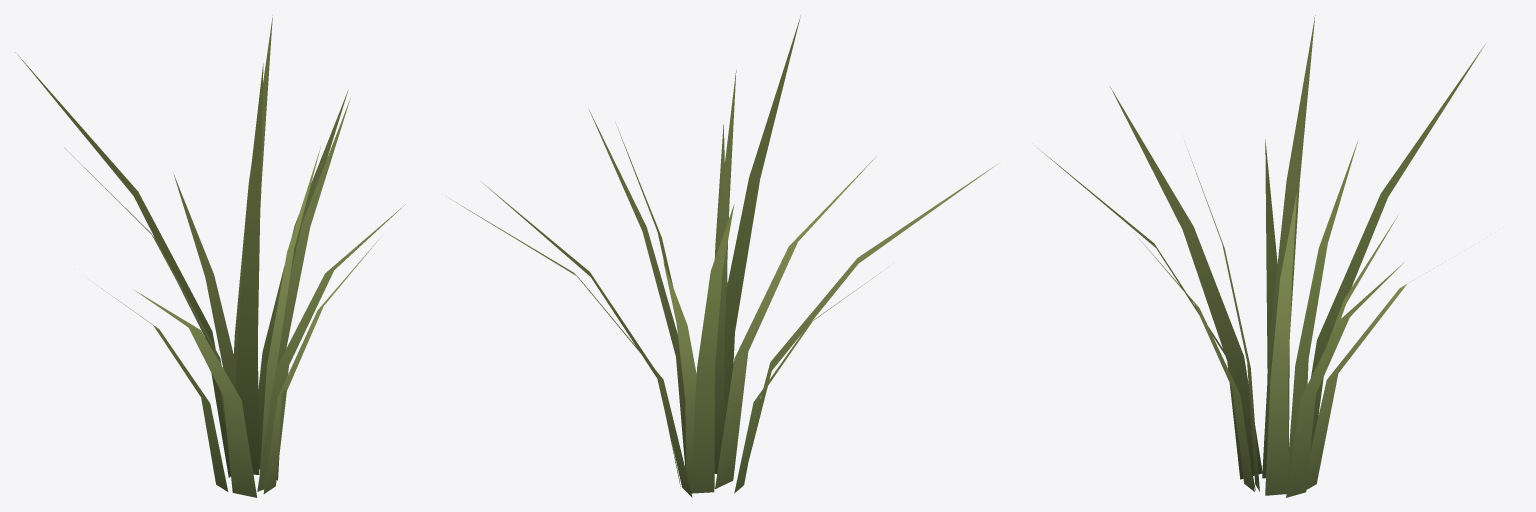
Rendered from grass.tussock.green.glb.
3 renders of one model, left to right at view 1: azimuth 30°, elevation 25°; view 2: azimuth 150°, elevation 25°; view 3: azimuth 270°, elevation 25°, orthographic. The views are drawn at different scales.
Parts seen in each view (by area): view 1: grass_tussock_green; view 2: grass_tussock_green; view 3: grass_tussock_green.
Boxes of the visible parts, bbox=[...] form: grass_tussock_green: bbox=[15, 15, 405, 497]; grass_tussock_green: bbox=[446, 15, 997, 497]; grass_tussock_green: bbox=[1038, 15, 1485, 497].
Size of the model in its own units: 0.483 by 0.4838 by 0.5632.
